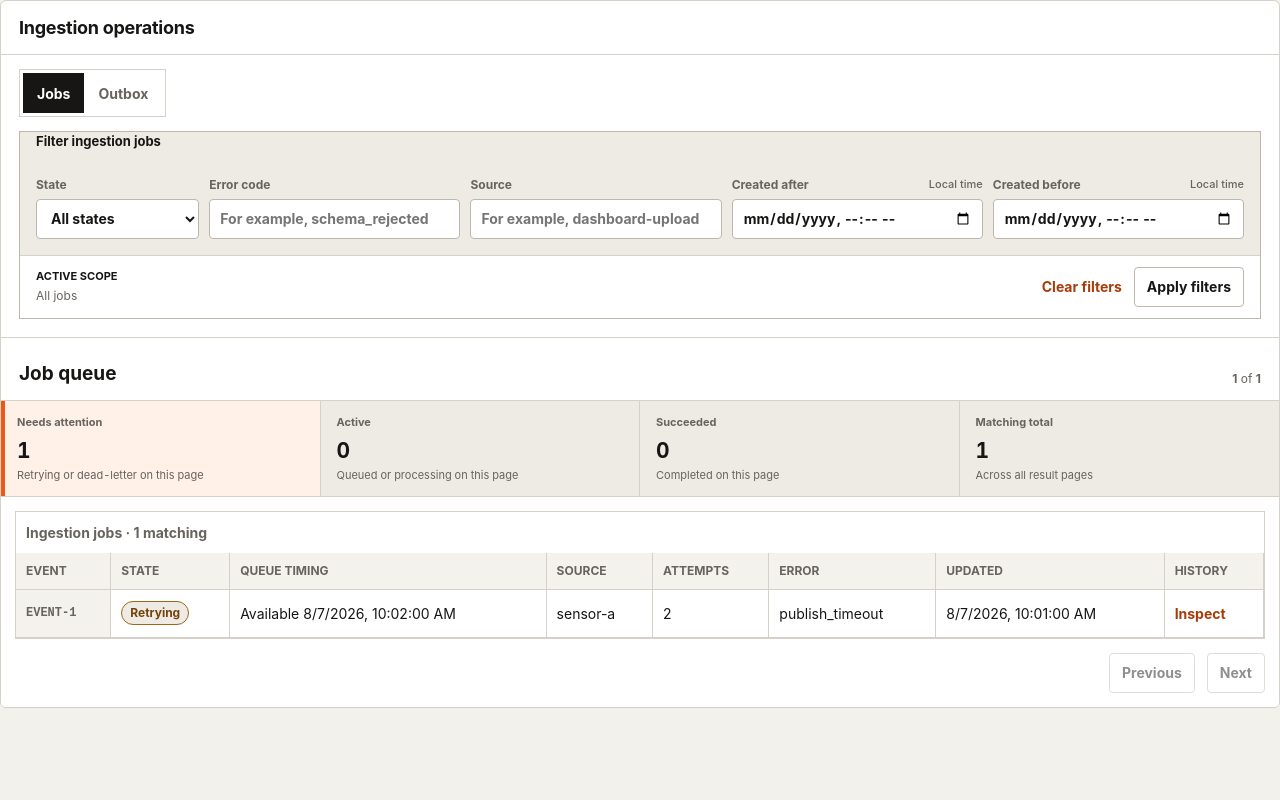
it: IngestionOperations › applies the complete backend job filter contract and reports the active scope
Expected: the table "Ingestion jobs" is shown, [16,512,1264,638]
Select "Retrying" in the dropdown labelled "State": (118, 218) [36,198,199,238]
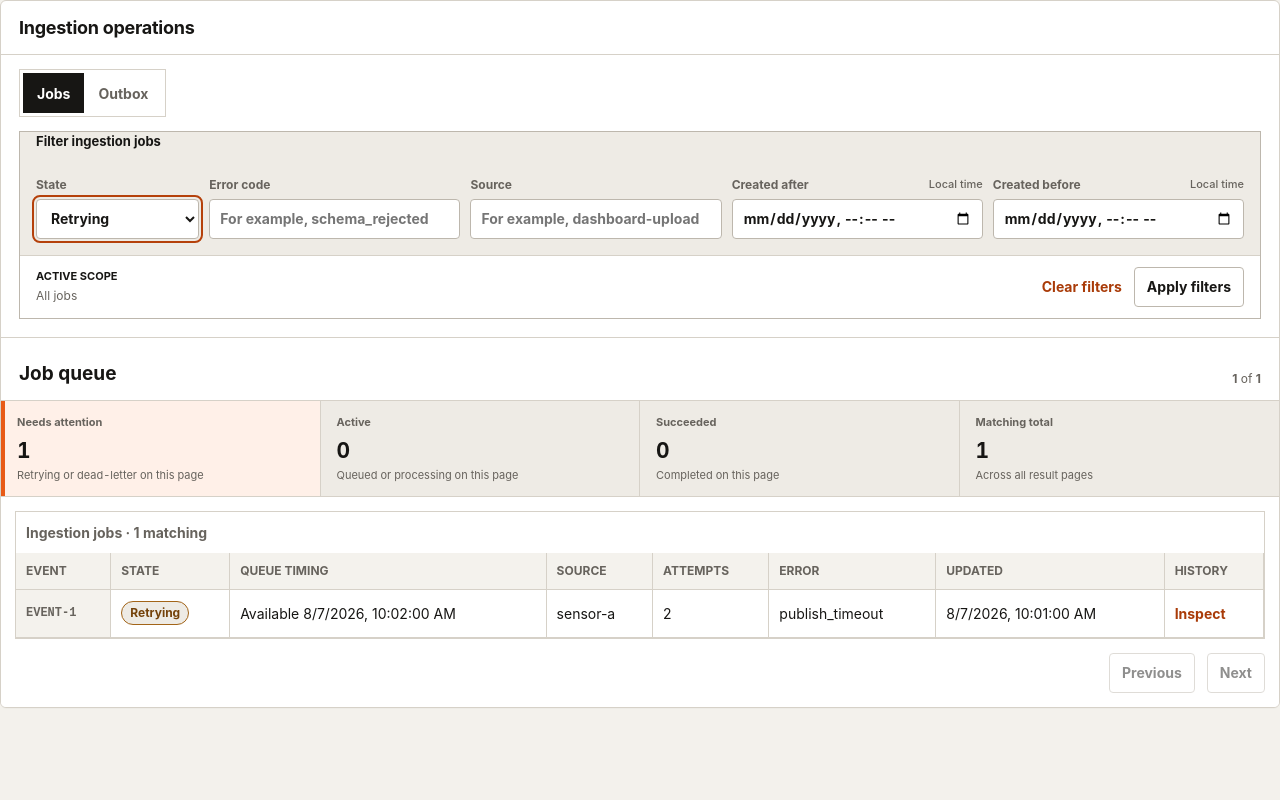
In the field labelled "Source": (596, 218) [470,198,722,238], type "sensor-a"
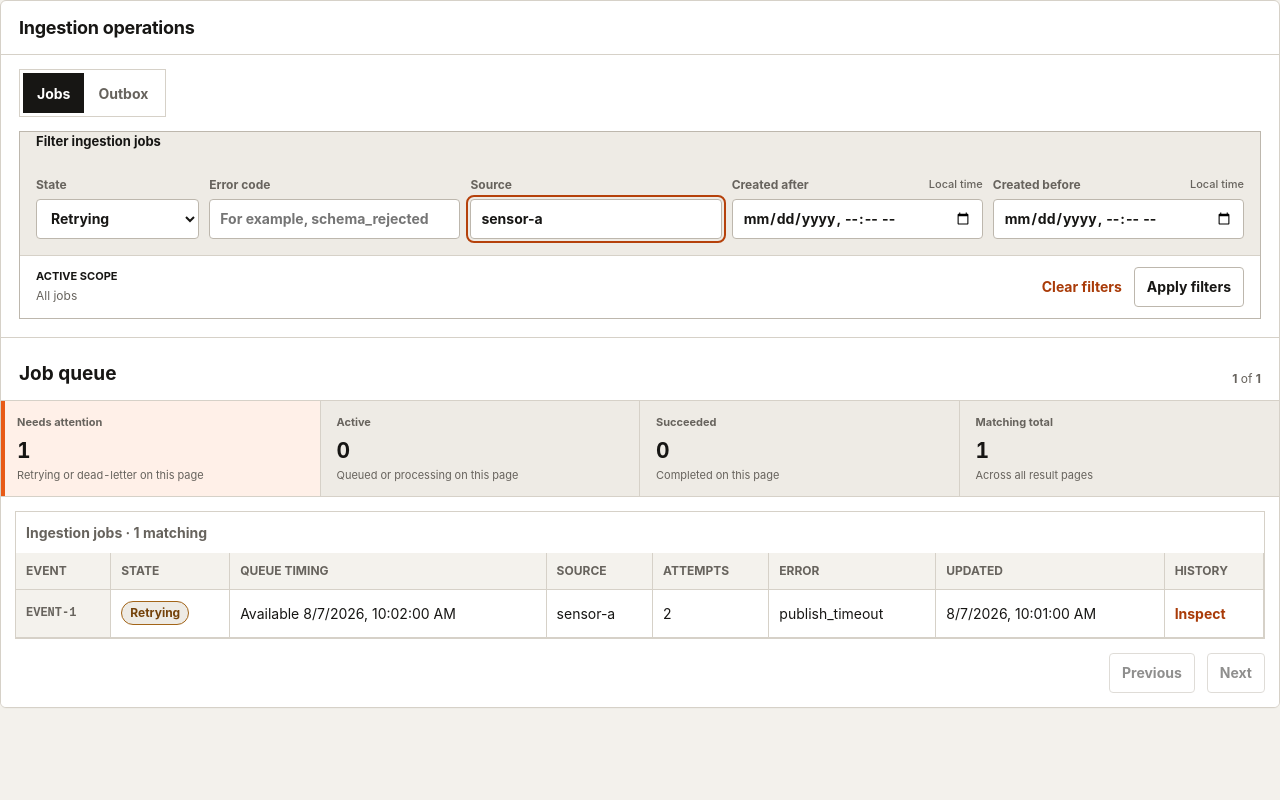
In the field labelled "Created after Local time": (857, 218) [732,198,983,238], type "2026-08-07T09:00"
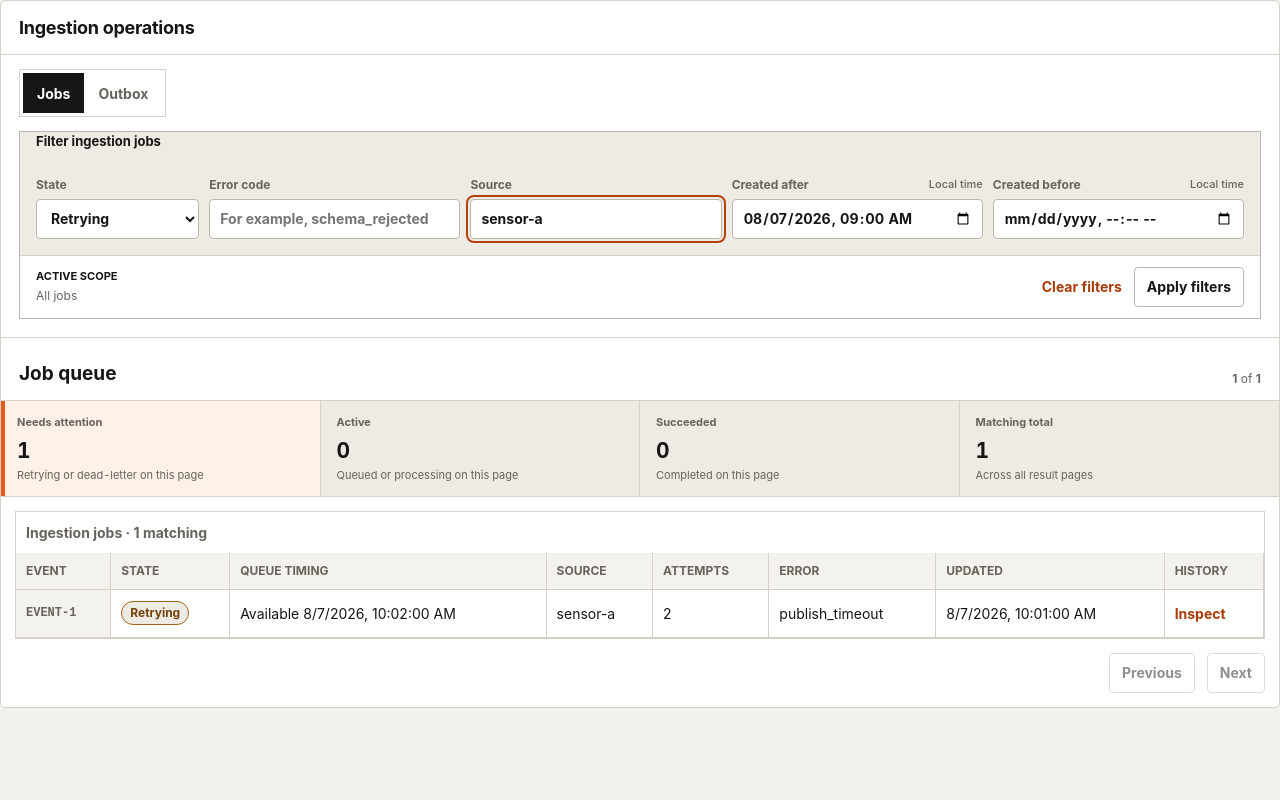
In the field labelled "Created before Local time": (1118, 218) [993,198,1244,238], type "2026-08-07T11:00"
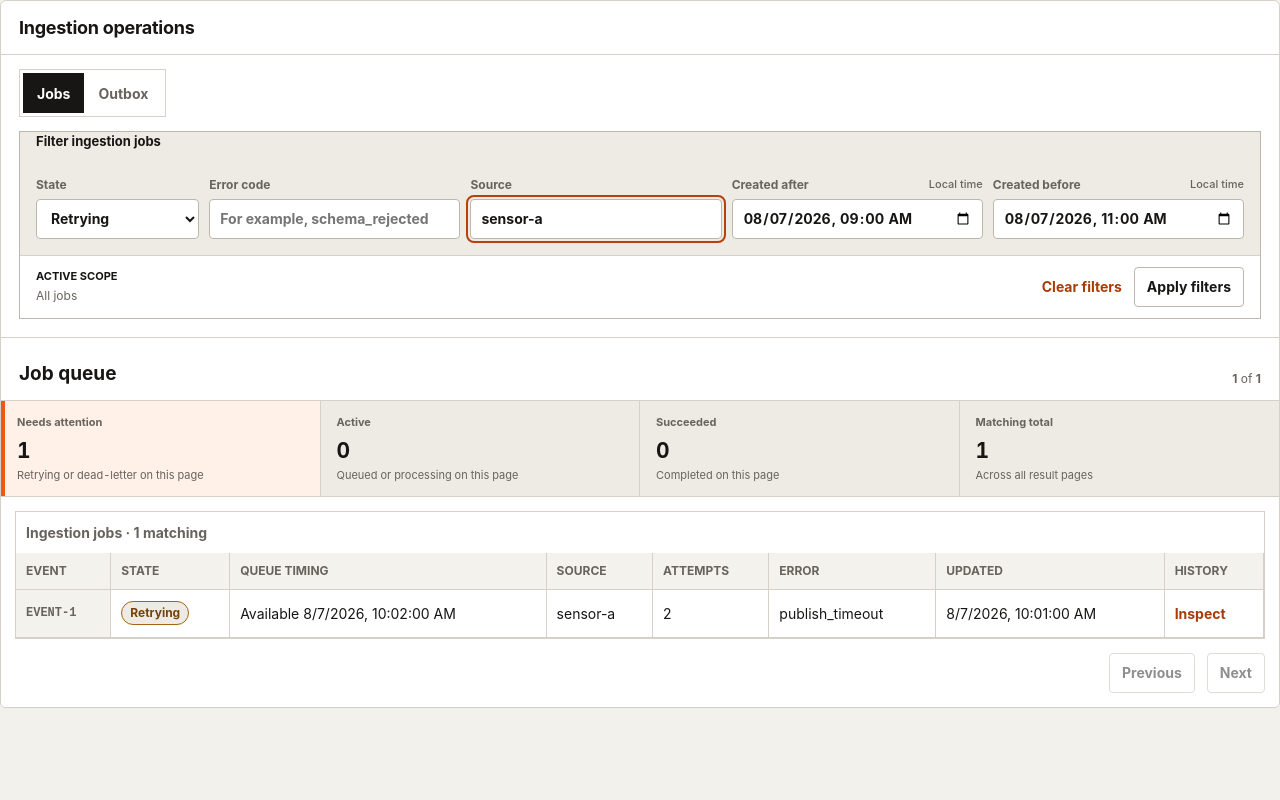
Click the button "Apply filters": (1189, 286) [1134,266,1244,306]
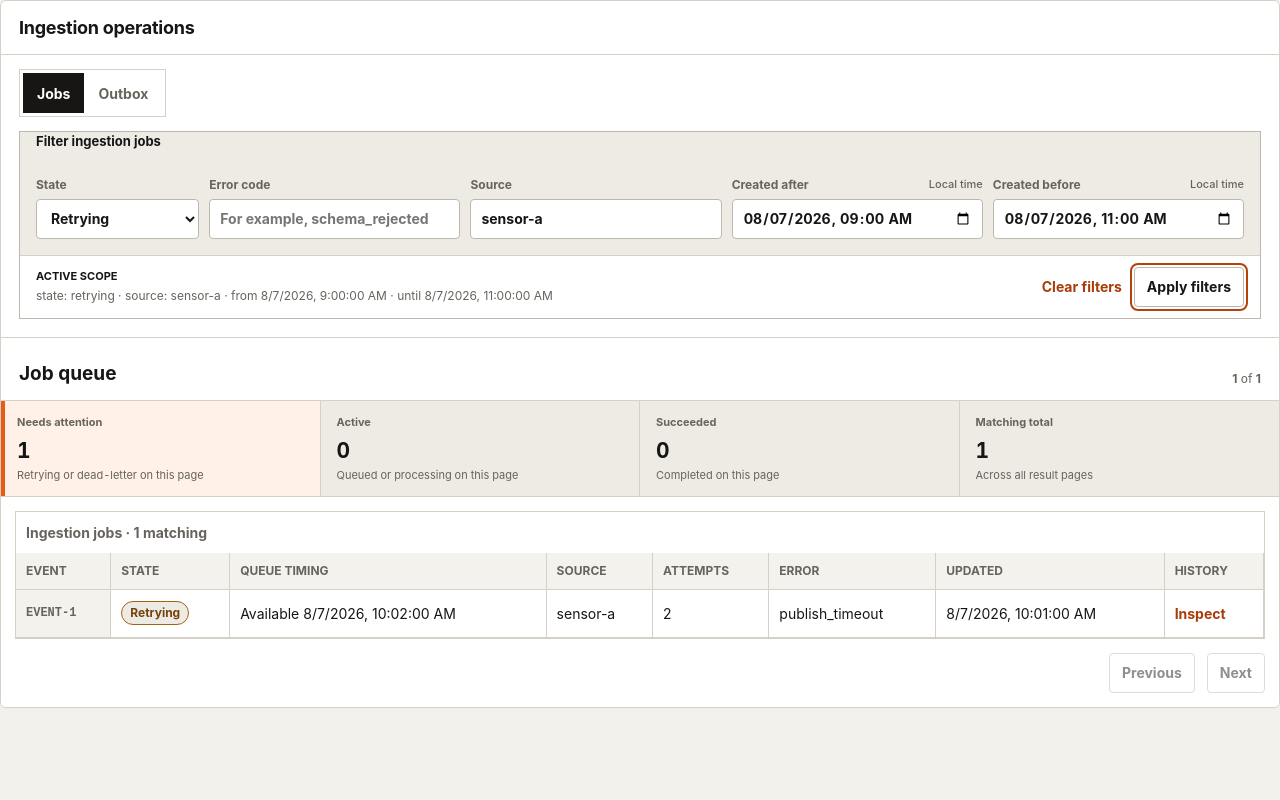
Now the text "state: retrying · source: sensor-a · from" is shown, box [36,288,553,303]
